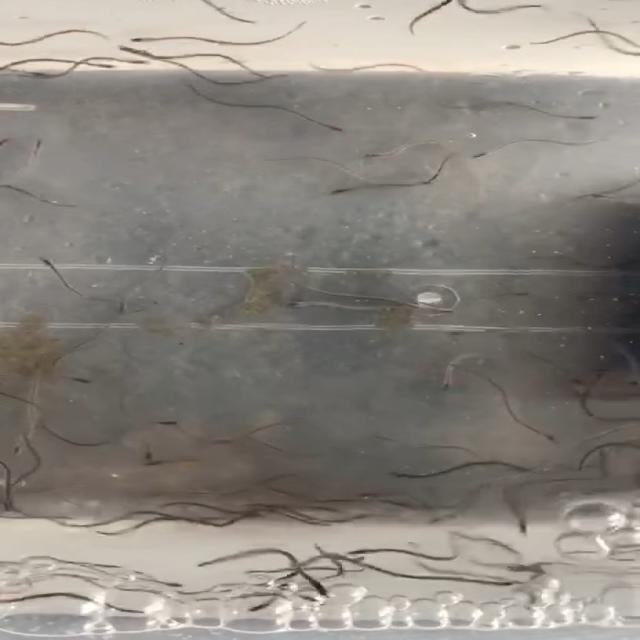active_glass_eel: (124, 408, 204, 434), (97, 290, 149, 323), (340, 145, 407, 170), (13, 136, 70, 164), (274, 292, 334, 318), (331, 508, 395, 532), (226, 598, 306, 617), (412, 296, 464, 325), (295, 574, 347, 603), (220, 498, 271, 526), (306, 185, 371, 205), (424, 370, 472, 397), (127, 52, 171, 81), (300, 110, 353, 134), (408, 509, 462, 532), (374, 463, 430, 485), (471, 571, 527, 593), (468, 143, 508, 171), (20, 255, 78, 274), (496, 515, 540, 540), (138, 574, 190, 595), (56, 368, 97, 391), (333, 544, 384, 562), (342, 489, 390, 506), (2, 443, 49, 460), (119, 32, 163, 50), (99, 42, 151, 57), (561, 107, 610, 122), (125, 452, 163, 471), (533, 431, 573, 449), (96, 57, 120, 76)
